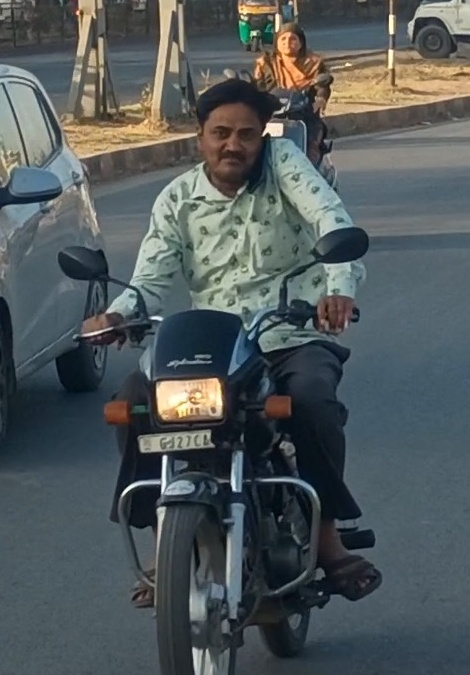BikeWithRider: (56, 70, 395, 675), (226, 19, 356, 220)
NoHelmet: (177, 67, 284, 185), (271, 22, 313, 57)
